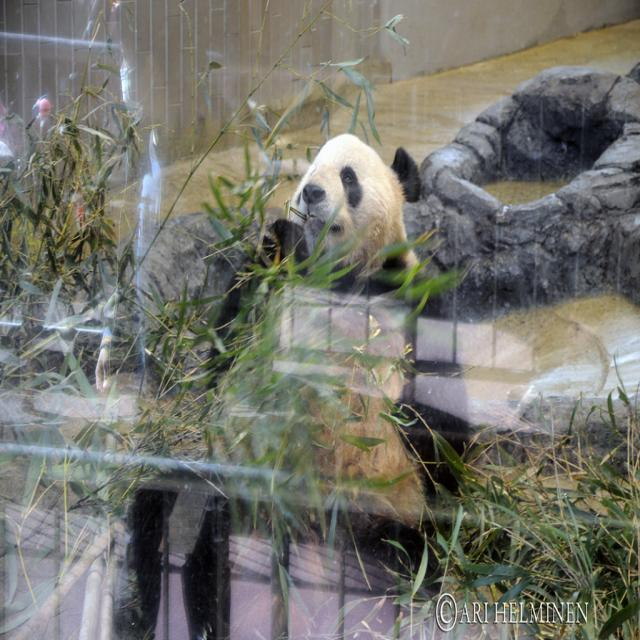panda: (115, 133, 472, 636)
